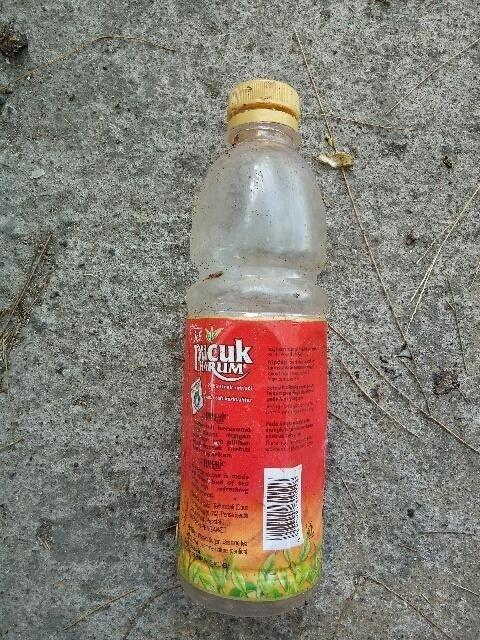bottle-plastic: (170, 75, 335, 623)
